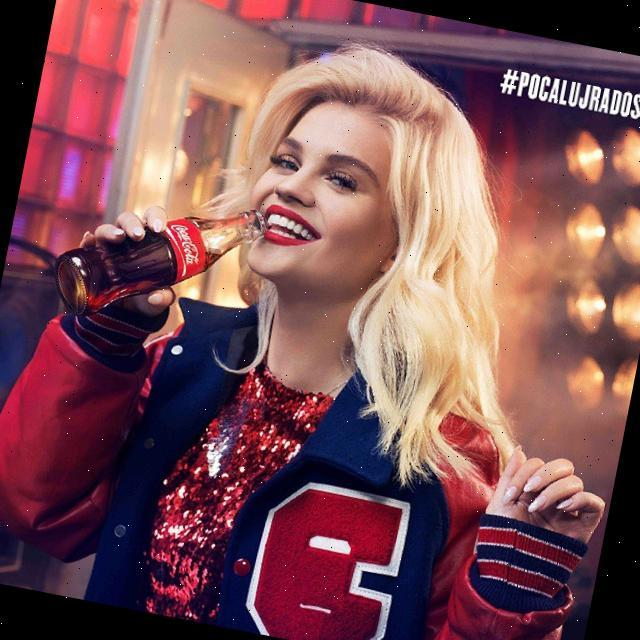coca-cola: (45, 172, 270, 348)
